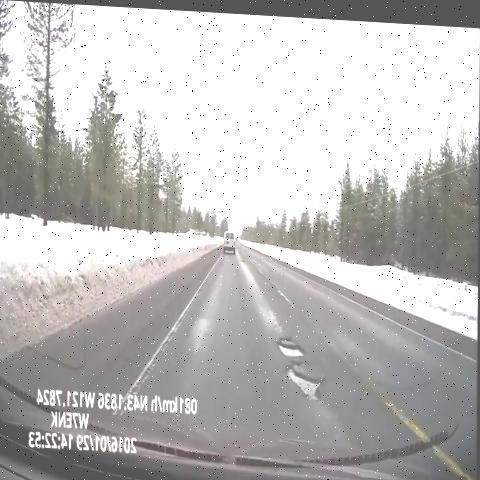pothole: (282, 349, 326, 409), (275, 329, 305, 359), (236, 252, 252, 270)
